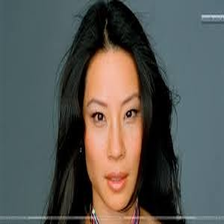no_mask: (85, 53, 142, 209)
